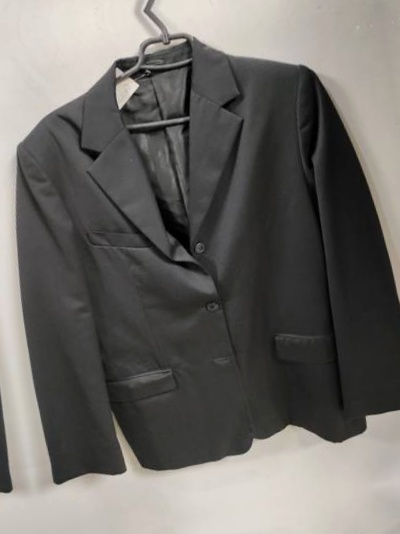Blazer: (0, 26, 400, 499), (0, 88, 27, 534), (57, 522, 400, 534)
